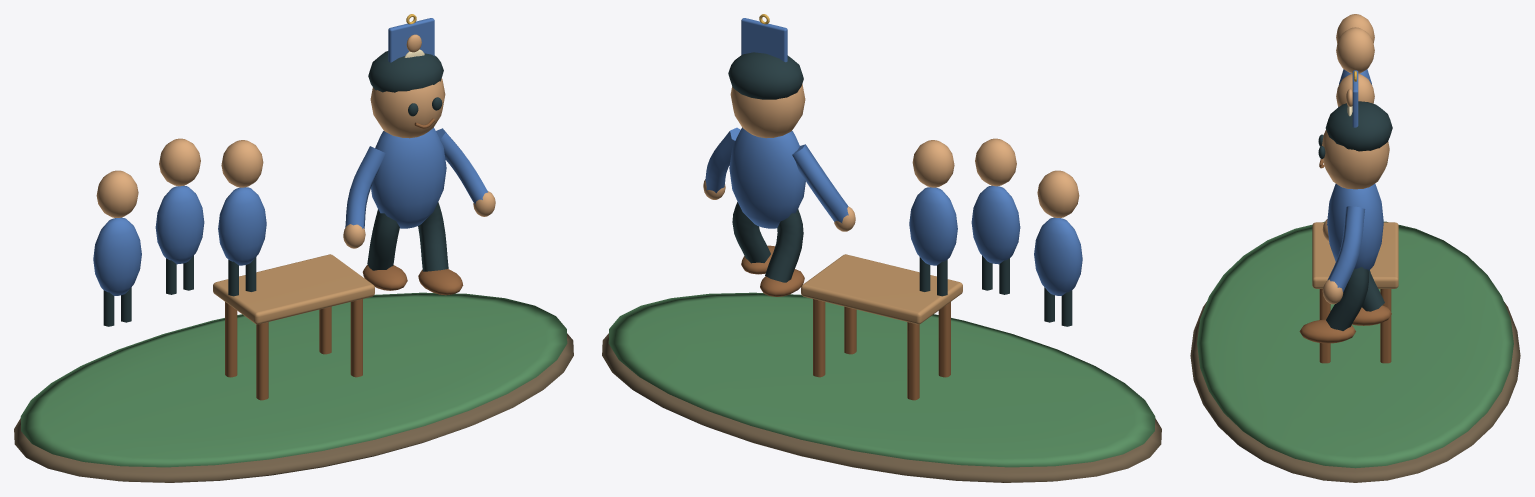
The model's file is complete-first-public-manager-company.glb.
The picture shows the model from 3 angles, left to right: view 1: azimuth 30°, elevation 25°; view 2: azimuth 150°, elevation 25°; view 3: azimuth 270°, elevation 25°; orthographic projection. The views are drawn at different scales.
Visible parts, largest first — view 1: complete-first-public-manager-company_surface_01, complete-first-public-manager-company_surface_03, complete-first-public-manager-company_surface_00, complete-first-public-manager-company_surface_02, complete-first-public-manager-company_surface_04, complete-first-public-manager-company_surface_06, complete-first-public-manager-company_surface_05; view 2: complete-first-public-manager-company_surface_01, complete-first-public-manager-company_surface_03, complete-first-public-manager-company_surface_00, complete-first-public-manager-company_surface_04, complete-first-public-manager-company_surface_02, complete-first-public-manager-company_surface_06, complete-first-public-manager-company_surface_05; view 3: complete-first-public-manager-company_surface_01, complete-first-public-manager-company_surface_00, complete-first-public-manager-company_surface_02, complete-first-public-manager-company_surface_03, complete-first-public-manager-company_surface_04, complete-first-public-manager-company_surface_05, complete-first-public-manager-company_surface_06.
Part boxes in pixels (x1,y1,x2,y2): complete-first-public-manager-company_surface_01: (20, 292, 567, 467); complete-first-public-manager-company_surface_03: (93, 18, 488, 295); complete-first-public-manager-company_surface_00: (14, 333, 573, 482); complete-first-public-manager-company_surface_02: (96, 34, 495, 248); complete-first-public-manager-company_surface_04: (103, 51, 448, 326); complete-first-public-manager-company_surface_06: (213, 254, 374, 324); complete-first-public-manager-company_surface_05: (225, 118, 463, 400); complete-first-public-manager-company_surface_01: (608, 292, 1155, 467); complete-first-public-manager-company_surface_03: (705, 18, 1082, 295); complete-first-public-manager-company_surface_00: (602, 333, 1161, 482); complete-first-public-manager-company_surface_04: (728, 52, 1072, 326); complete-first-public-manager-company_surface_02: (703, 84, 1079, 231); complete-first-public-manager-company_surface_06: (801, 254, 962, 324); complete-first-public-manager-company_surface_05: (741, 245, 950, 400); complete-first-public-manager-company_surface_01: (1197, 221, 1513, 468); complete-first-public-manager-company_surface_00: (1190, 302, 1520, 482); complete-first-public-manager-company_surface_02: (1322, 14, 1389, 304); complete-first-public-manager-company_surface_03: (1327, 69, 1383, 292); complete-first-public-manager-company_surface_04: (1318, 101, 1392, 330); complete-first-public-manager-company_surface_05: (1299, 159, 1391, 363); complete-first-public-manager-company_surface_06: (1312, 222, 1398, 288).
Size of the model in its own units: 4.56 by 2.97 by 2.5.
